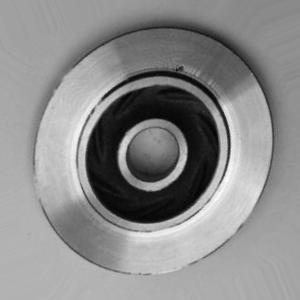defect: (159, 46, 202, 90)
